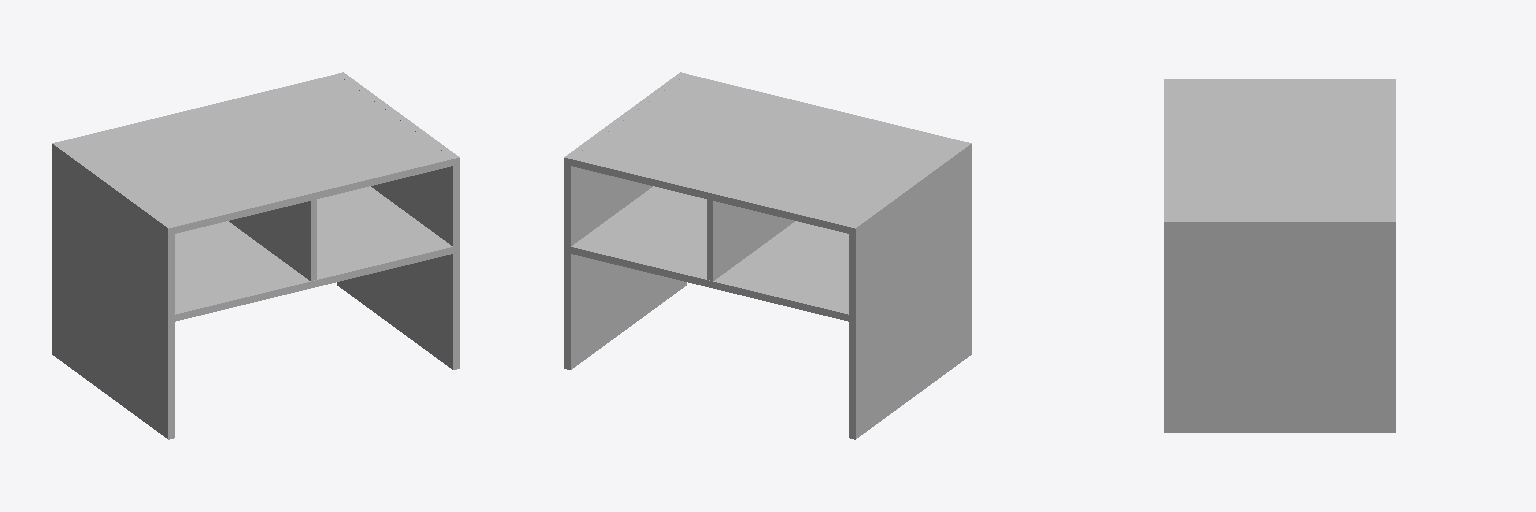
The model's file is Лофт.obj.
3 views of the same model, side by side, from view 1: azimuth 30°, elevation 25°; view 2: azimuth 150°, elevation 25°; view 3: azimuth 270°, elevation 25° (orthographic).
Visible parts, largest first — view 1: Cube.004_Cube.005; view 2: Cube.004_Cube.005; view 3: Cube.004_Cube.005.
Part boxes in pixels (bbox=[...]): Cube.004_Cube.005: bbox=[52, 72, 459, 439]; Cube.004_Cube.005: bbox=[564, 72, 971, 439]; Cube.004_Cube.005: bbox=[1164, 79, 1395, 432].
Size of the model in its own units: 1.3 by 0.9 by 0.8994.